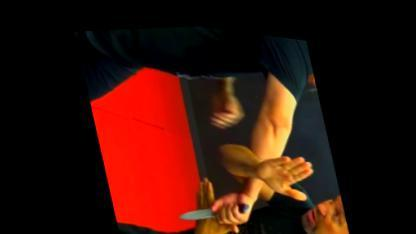knife: (170, 176, 249, 229)
